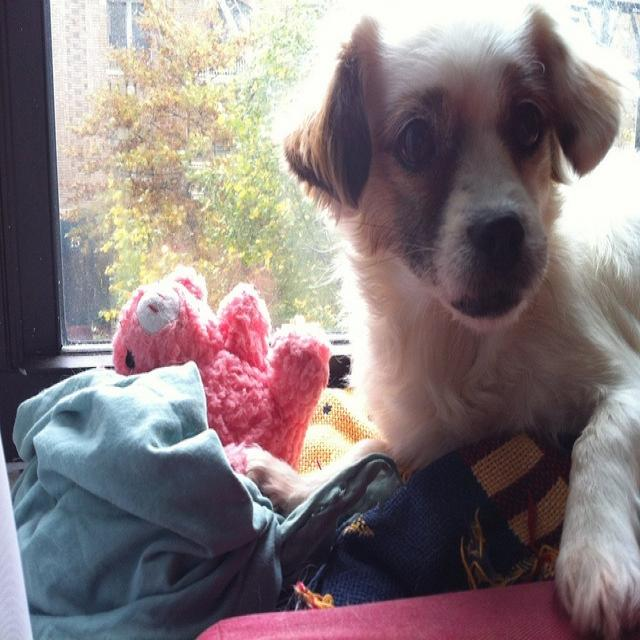dog: (282, 5, 639, 631)
